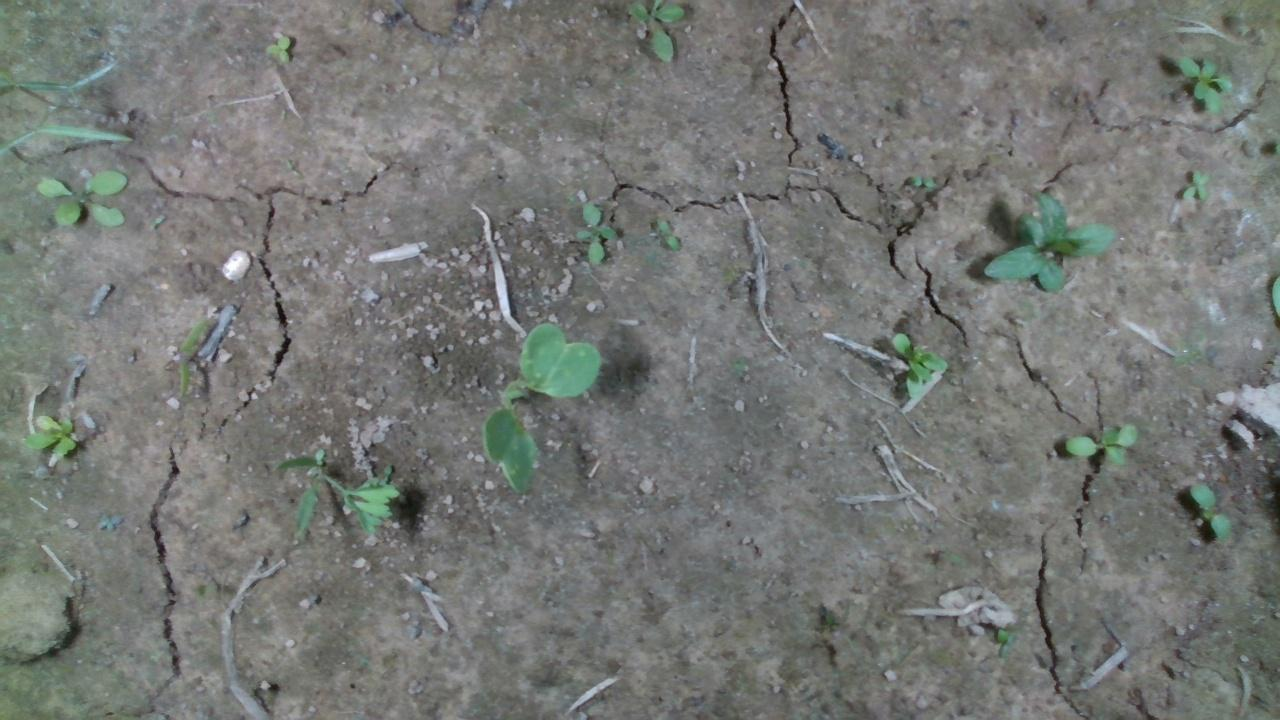weed: (33, 168, 129, 228), (1065, 422, 1138, 475), (1174, 49, 1230, 113), (570, 200, 619, 266), (17, 411, 77, 457), (1189, 479, 1232, 539), (1180, 164, 1210, 204), (262, 33, 293, 66), (654, 215, 679, 251)
